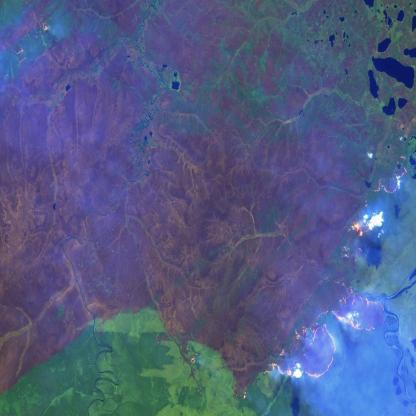fire: (261, 150, 409, 383)
